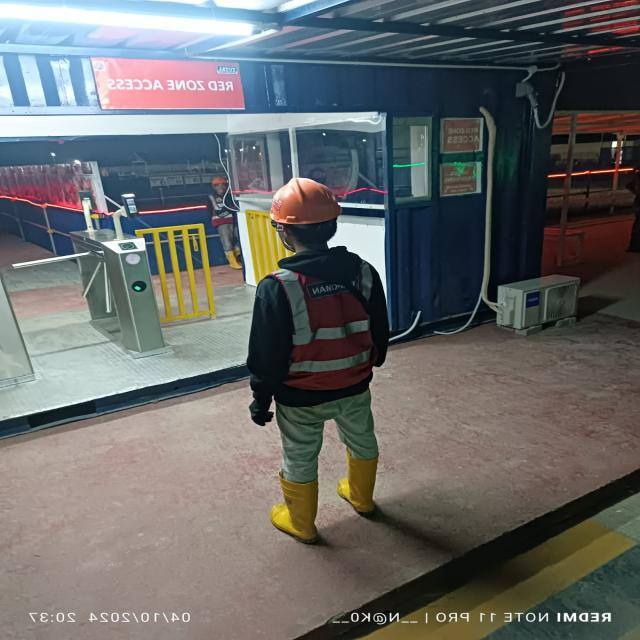gloves: (246, 394, 270, 426)
helmet: (265, 172, 345, 220)
safety_vest: (286, 266, 368, 386)
